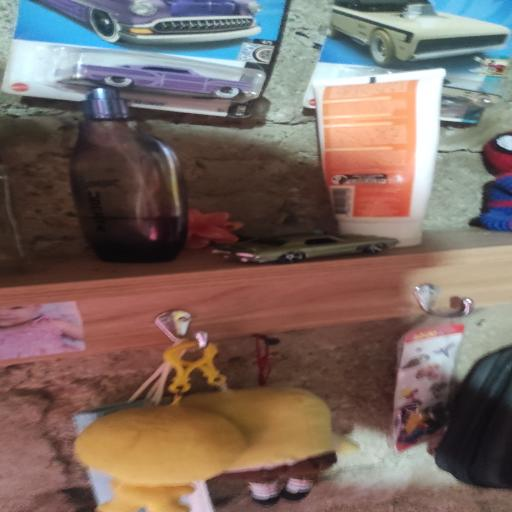Carrito: (212, 233, 398, 264)
